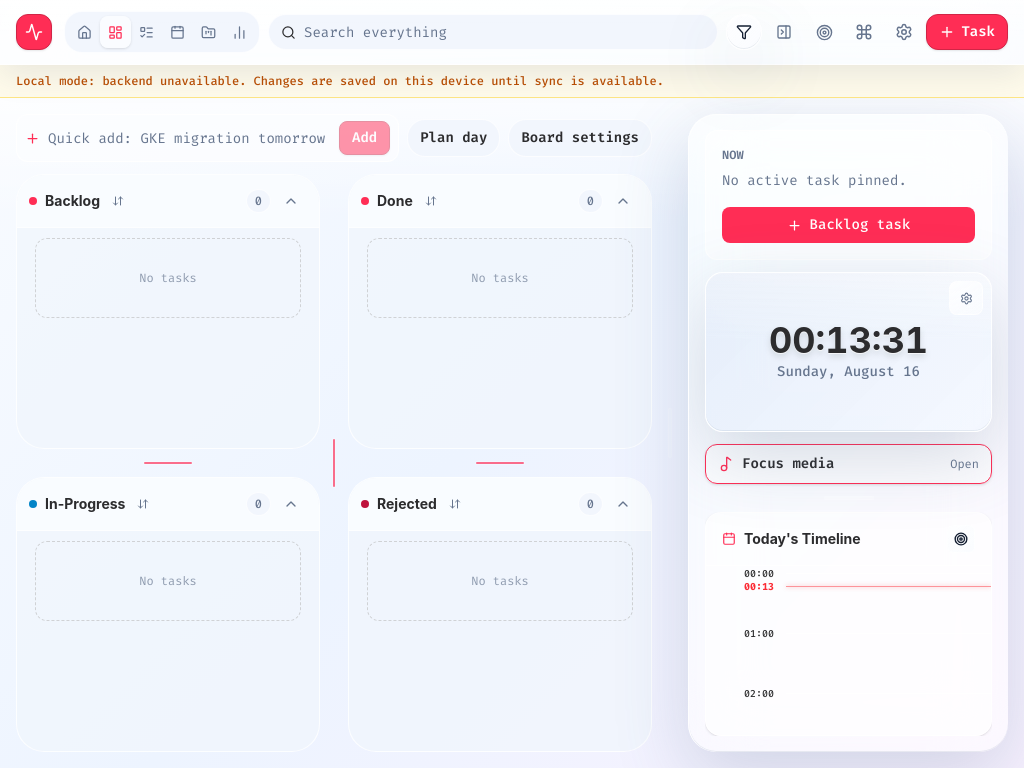
it: keeps clock color controls aligned with inherited theme text color
What coordinates should you click on to do the following:
click the button named "open clock settings"
I would click on:
 (966, 298)
Its box is left=954, top=286, right=978, bottom=310.
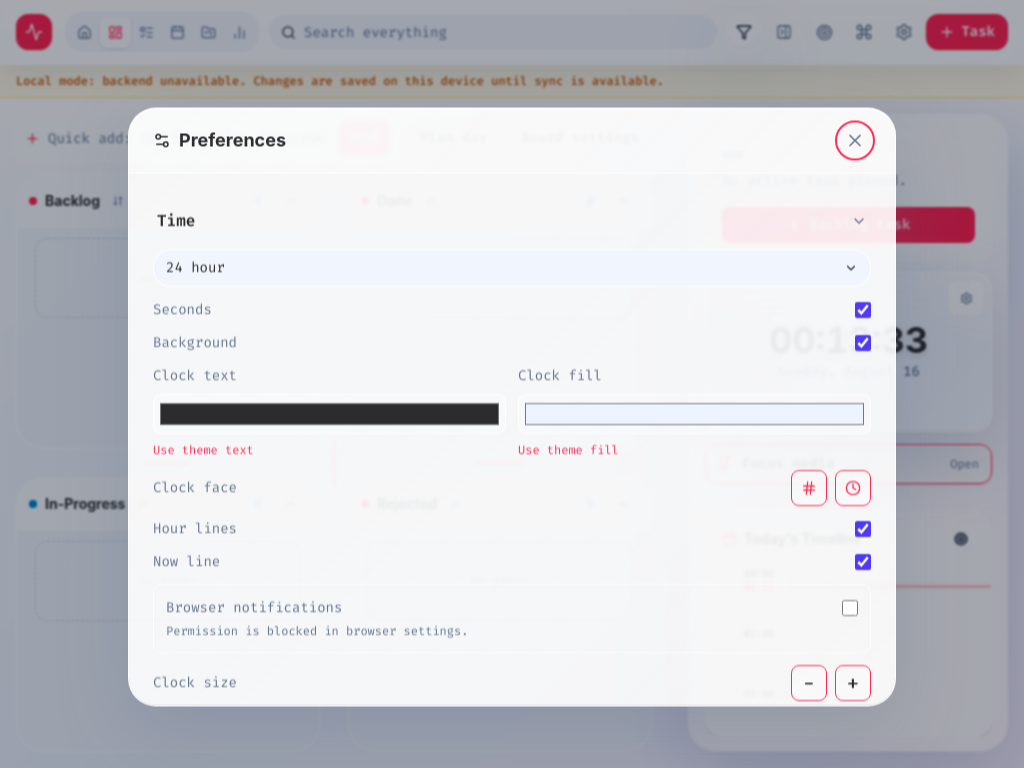
Expected: the colour field named "clock text color" holds "#2c2c2e", left=153, top=394, right=506, bottom=434
